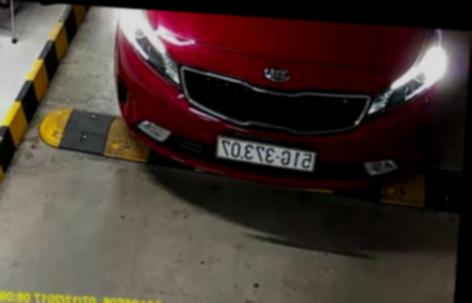License_Plate: (210, 135, 322, 173)
